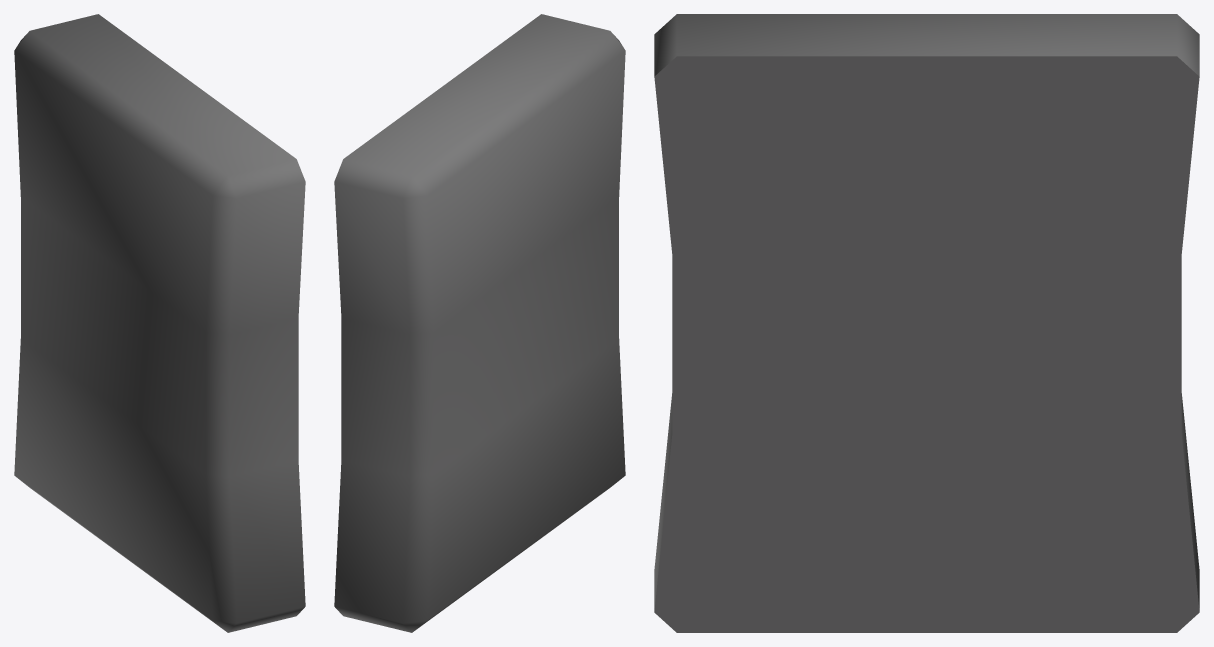
Rendered from Table_2_1.obj.
3 views of the same model, side by side, from view 1: azimuth 30°, elevation 25°; view 2: azimuth 150°, elevation 25°; view 3: azimuth 270°, elevation 25° (orthographic). The views are drawn at different scales.
Visible parts, largest first — view 1: Table_2_1; view 2: Table_2_1; view 3: Table_2_1.
Boxes of the visible parts, x1,y1,x2,y2 form: Table_2_1: (14,14,305,632); Table_2_1: (334,14,625,632); Table_2_1: (654,14,1199,632).
Size of the model in its own units: 0.0894 by 0.4635 by 0.3972.
